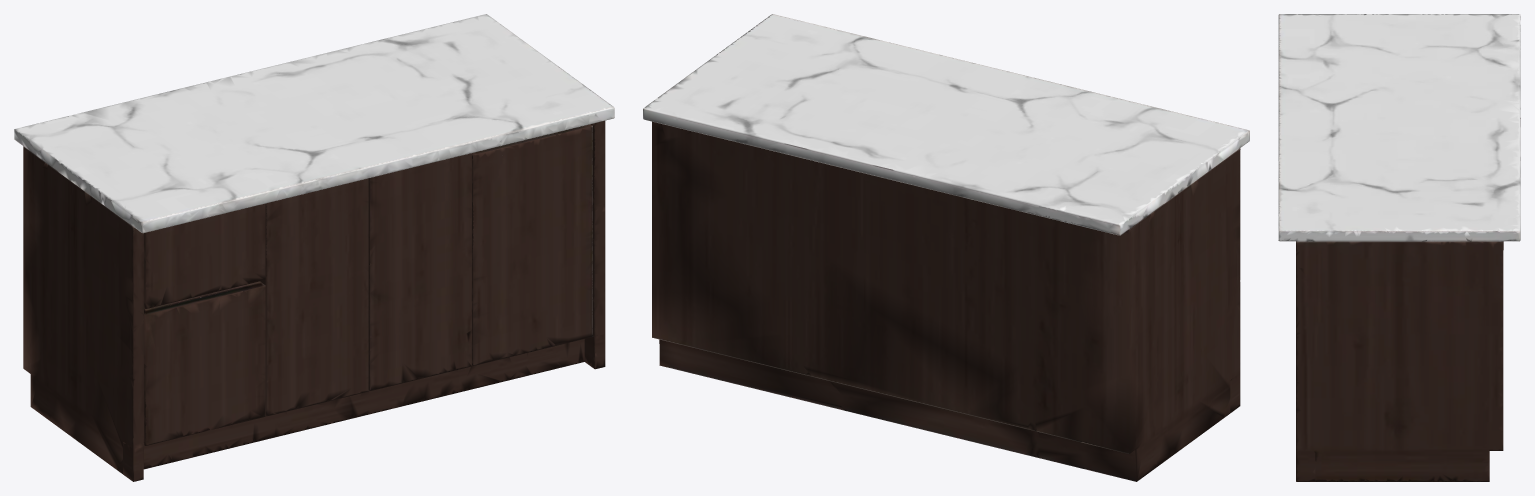
The model's file is kitchen_island.glb.
3 views of the same model, side by side, from view 1: azimuth 30°, elevation 25°; view 2: azimuth 150°, elevation 25°; view 3: azimuth 270°, elevation 25° (orthographic). The views are drawn at different scales.
Visible parts, largest first — view 1: geometry_0; view 2: geometry_0; view 3: geometry_0.
Boxes of the visible parts, bbox=[...] form: geometry_0: bbox=[14, 14, 614, 481]; geometry_0: bbox=[643, 14, 1249, 481]; geometry_0: bbox=[1278, 14, 1520, 481].
Bounding box in the file's own units: 1.5 × 0.8079 × 0.7064.
Materials: 1 (1 with a texture image).
